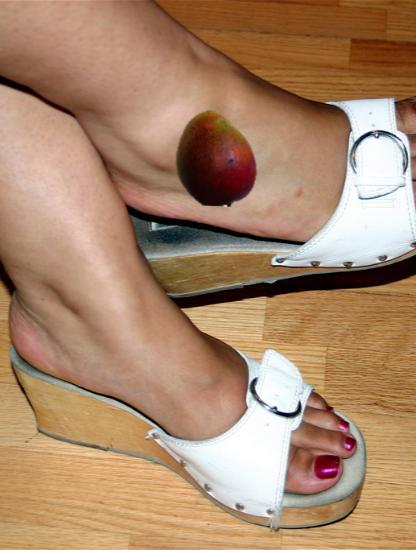Mango: (169, 110, 265, 206)
